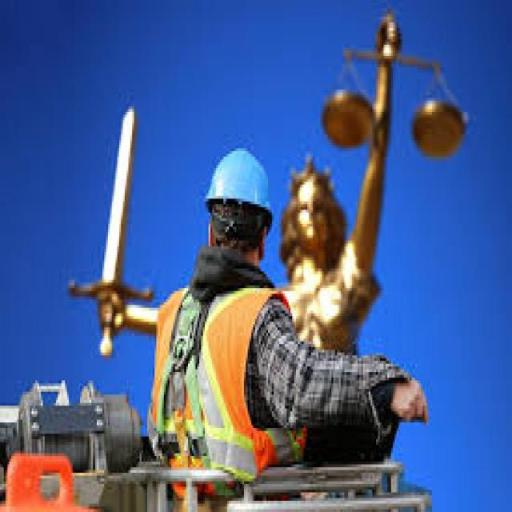helmet: (197, 140, 281, 230)
vest: (145, 274, 305, 504)
